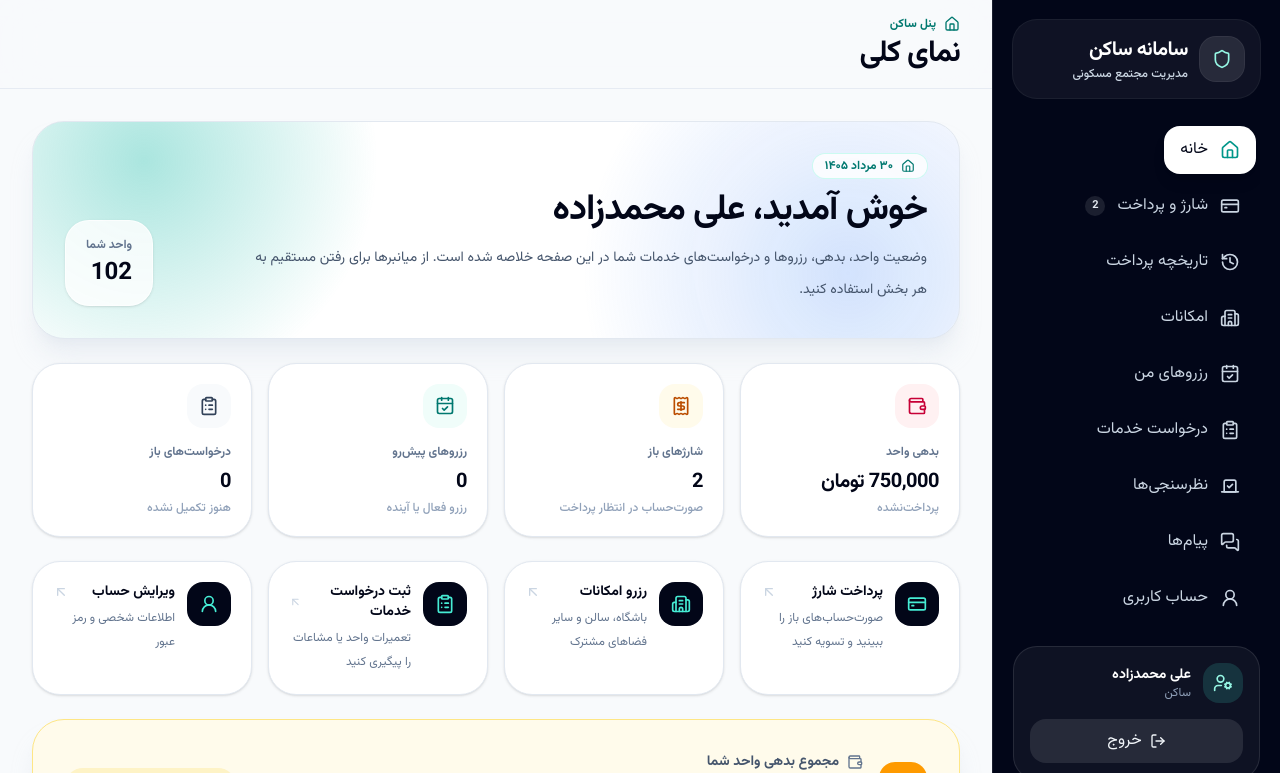
Test case: ResidentDashboardPage › pays the selected charges, drops them from the list and refreshes the debt total
The width and height of the screenshot is (1280, 773).
Click the button "شارژ و پرداخت 2": point(1163, 206) [1069, 182, 1256, 230]
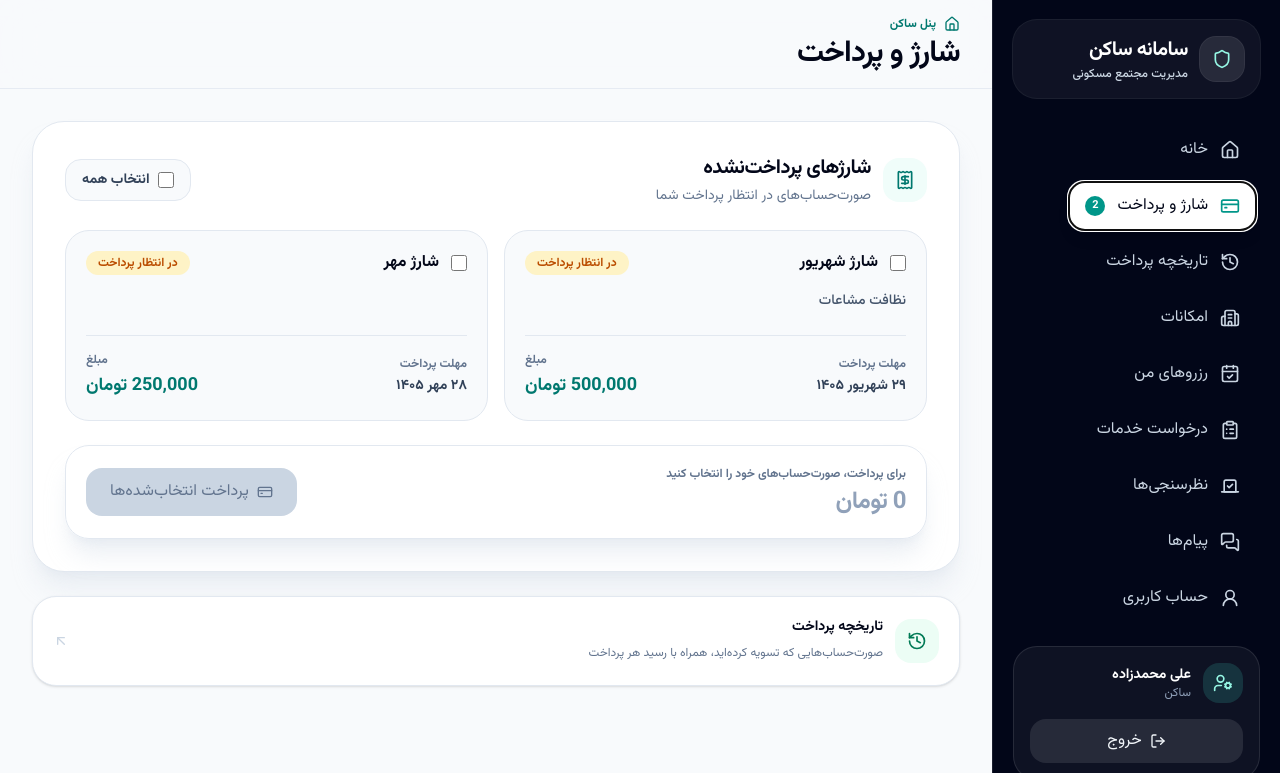
Expected: the heading "شارژ شهریور" is shown, [799, 251, 878, 275]
Click the checkbox named "انتخاب شارژ شهریور": point(898, 263) [890, 255, 906, 271]
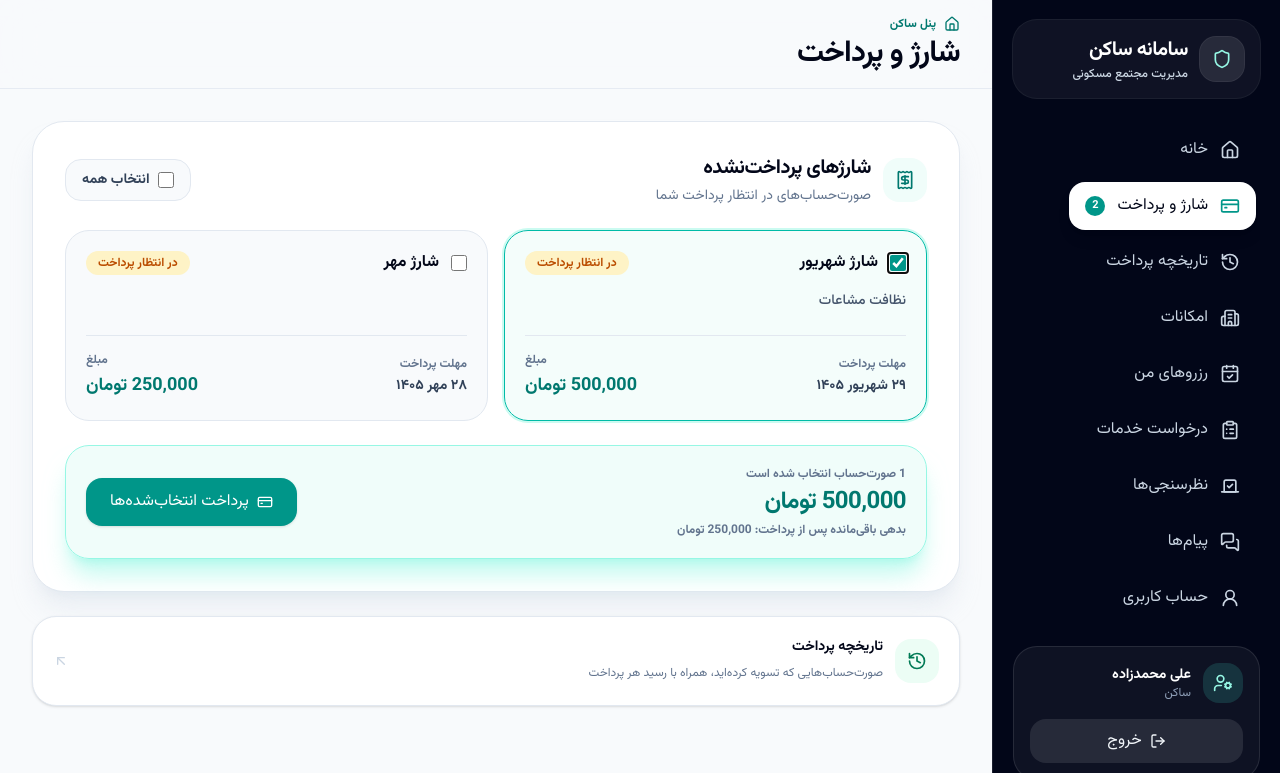
Click the button "پرداخت انتخاب‌شده‌ها": point(191, 502) [86, 478, 297, 526]
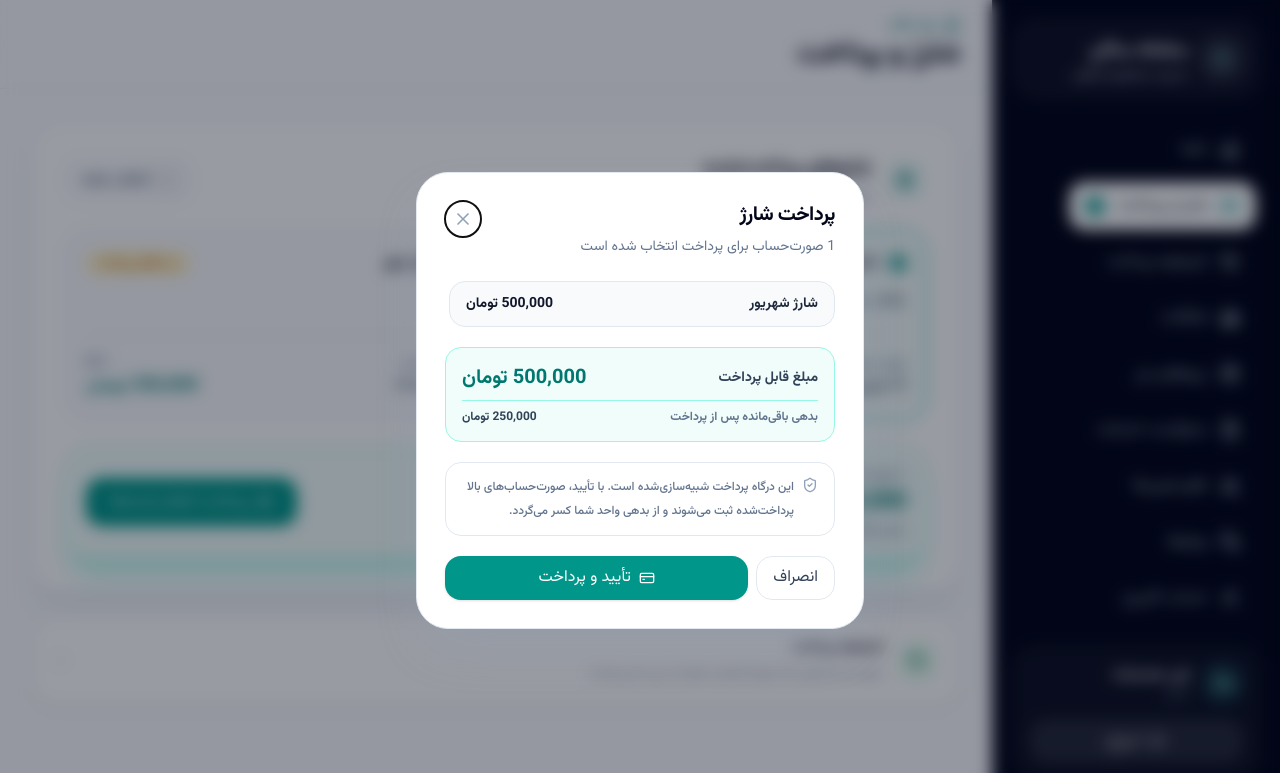
Expected: the dialog "پرداخت شارژ" is shown, [416, 172, 864, 628]
Click the button "تأیید و پرداخت": point(597, 578) [445, 556, 748, 600]
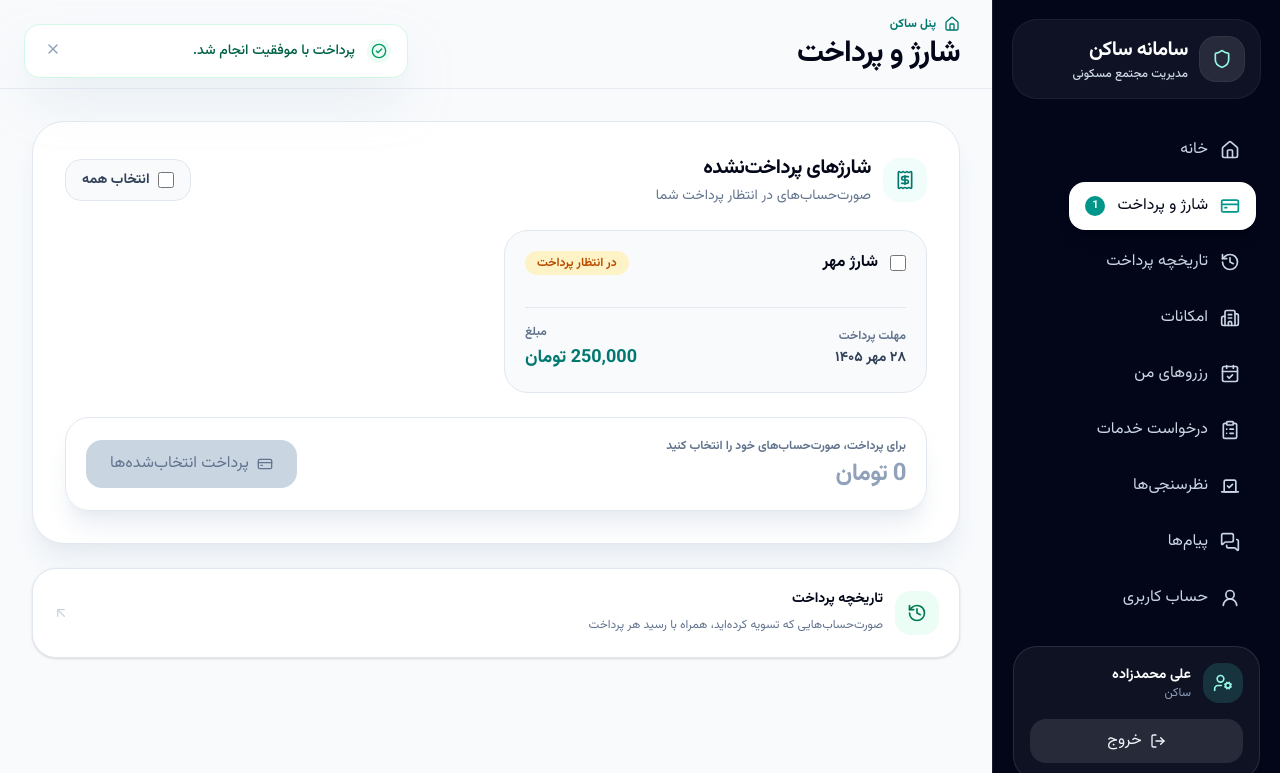
Expected: the heading "شارژ مهر" is shown, [822, 251, 878, 275]
Expected: the dialog is gone
Expected: the heading "شارژ شهریور" is gone
Click the button "خانه": point(1210, 150) [1164, 126, 1256, 174]
(page scrolled)
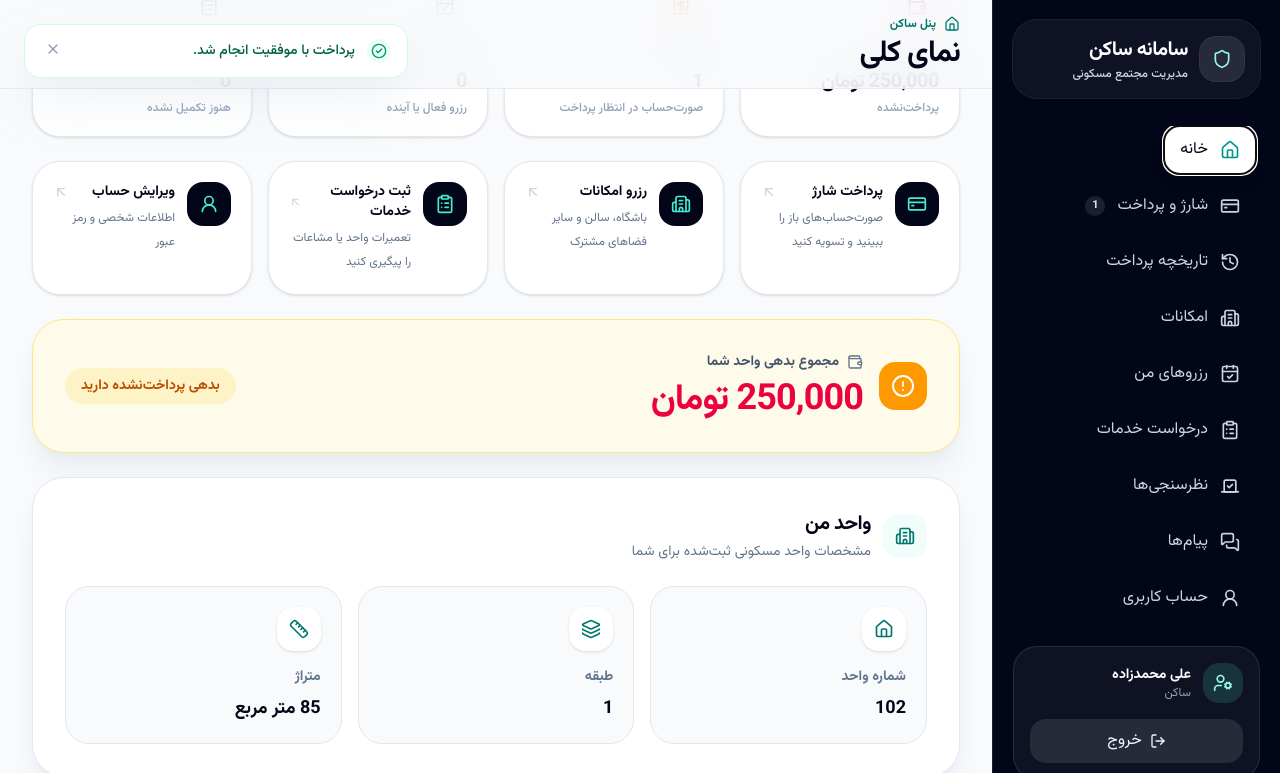
Expected: the text "250,000 تومان" is shown, [651, 380, 863, 420]
